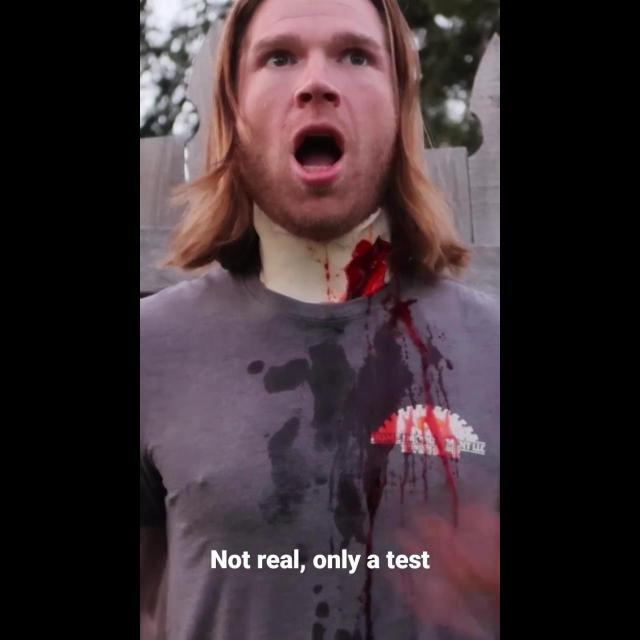blood: (307, 230, 458, 640)
